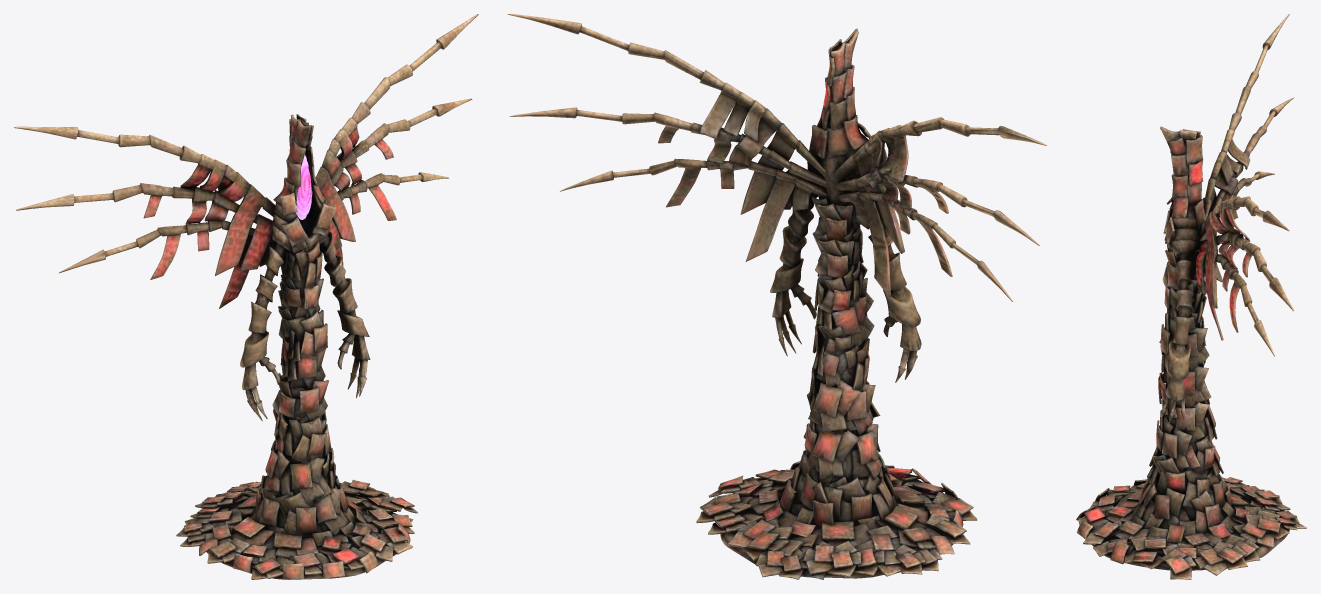
Rendered from MZ4250 - Living Spellbook.glb.
The picture shows the model from 3 angles, left to right: view 1: azimuth 30°, elevation 25°; view 2: azimuth 150°, elevation 25°; view 3: azimuth 270°, elevation 25°; orthographic projection. The views are drawn at different scales.
Visible parts, largest first — view 1: ORGANIC BASE SPHERE.001; view 2: ORGANIC BASE SPHERE.001; view 3: ORGANIC BASE SPHERE.001.
Boxes of the visible parts, x1,y1,x2,y2 form: ORGANIC BASE SPHERE.001: [14, 14, 478, 579]; ORGANIC BASE SPHERE.001: [507, 14, 1046, 579]; ORGANIC BASE SPHERE.001: [1076, 14, 1306, 579].
Bounding box in the file's own units: 277 × 242 × 124.
1 material, 1 textured.
